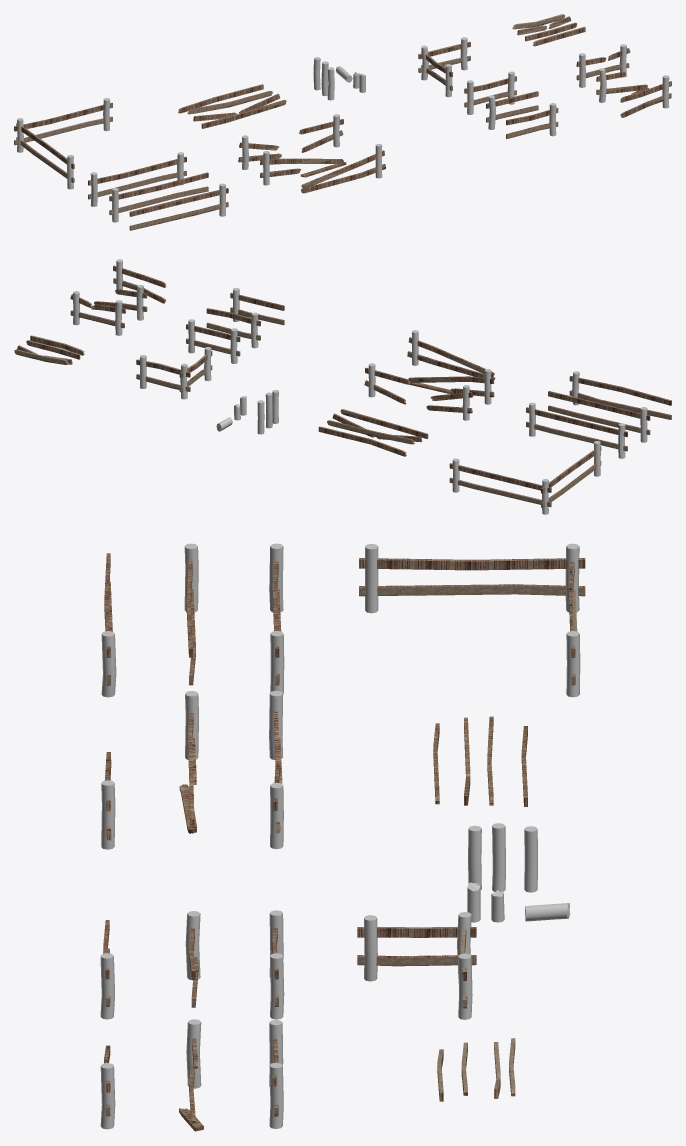
File: wooden_fence_without_proxy.fbx
3 views of the same model, one above another, from view 1: azimuth 30°, elevation 25°; view 2: azimuth 150°, elevation 25°; view 3: azimuth 270°, elevation 25° (orthographic). The views are drawn at different scales.
Visible parts, largest first — view 1: wooden_fence_large_corner, wooden_fence_large_2poles, wooden_fence_large_1pole_L, wooden_fence_small_corner, wooden_fence_large_1pole_R, wooden_fence_large_broken_2poles, wooden_fence_large_broken_1poleR, wooden_fence_large_broken_1poleL, wooden_fence_small_2poles, wooden_fence_small_broken_2poles, wooden_fence_small_1pole_L, wooden_fence_small_1pole_R (+6 smaller); view 2: wooden_fence_large_corner, wooden_fence_large_2poles, wooden_fence_small_corner, wooden_fence_large_1pole_L, wooden_fence_large_broken_2poles, wooden_fence_large_1pole_R, wooden_fence_large_broken_1poleR, wooden_fence_large_broken_1poleL, wooden_fence_small_2poles, wooden_fence_small_broken_2poles, wooden_fence_small_1pole_L, wooden_fence_small_broken_1poleR (+5 smaller); view 3: wooden_fence_large_corner, wooden_fence_small_corner, wooden_fence_large_broken_2poles, wooden_fence_large_2poles, wooden_fence_large_broken_1poleL, wooden_fence_small_2poles, wooden_fence_small_broken_2poles, wooden_fence_large_1pole_L, wooden_fence_large_1pole_R, wooden_fence_small_broken_1poleL, wooden_fence_large_broken_1poleR, wooden_fence_small_1pole_L (+4 smaller).
Part boxes in pixels (x1,y1,x2,y2): wooden_fence_large_corner: (14, 98, 112, 189); wooden_fence_large_2poles: (88, 152, 186, 206); wooden_fence_large_1pole_L: (109, 172, 208, 222); wooden_fence_small_corner: (418, 37, 470, 97); wooden_fence_large_1pole_R: (129, 183, 228, 230); wooden_fence_large_broken_2poles: (238, 114, 343, 169); wooden_fence_large_broken_1poleR: (301, 143, 385, 193); wooden_fence_large_broken_1poleL: (260, 151, 346, 185); wooden_fence_small_2poles: (464, 71, 516, 114); wooden_fence_small_broken_2poles: (576, 44, 630, 87); wooden_fence_small_1pole_L: (486, 91, 538, 129); wooden_fence_small_1pole_R: (506, 103, 558, 138); wooden_fence_large_corner: (449, 441, 601, 514); wooden_fence_large_2poles: (526, 402, 627, 458); wooden_fence_small_corner: (136, 347, 212, 399); wooden_fence_large_1pole_L: (548, 391, 650, 442); wooden_fence_large_broken_2poles: (364, 363, 473, 420); wooden_fence_large_1pole_R: (569, 371, 671, 419); wooden_fence_large_broken_1poleR: (407, 330, 495, 380); wooden_fence_large_broken_1poleL: (408, 369, 494, 404); wooden_fence_small_2poles: (186, 319, 240, 363); wooden_fence_small_broken_2poles: (70, 291, 125, 335); wooden_fence_small_1pole_L: (206, 308, 260, 348); wooden_fence_small_broken_1poleR: (113, 259, 166, 303); wooden_fence_large_corner: (359, 543, 585, 697); wooden_fence_small_corner: (357, 912, 476, 1019); wooden_fence_large_broken_2poles: (269, 690, 283, 849); wooden_fence_large_2poles: (269, 543, 284, 694); wooden_fence_large_broken_1poleL: (179, 691, 198, 833); wooden_fence_small_2poles: (269, 910, 284, 1019); wooden_fence_small_broken_2poles: (269, 1019, 283, 1128); wooden_fence_large_1pole_L: (184, 543, 198, 685); wooden_fence_large_1pole_R: (101, 553, 116, 697); wooden_fence_small_broken_1poleL: (179, 1019, 203, 1131); wooden_fence_large_broken_1poleR: (101, 752, 115, 849); wooden_fence_small_1pole_L: (185, 911, 200, 1007).
Size of the model in its own units: 2660 by 152 by 1032.
